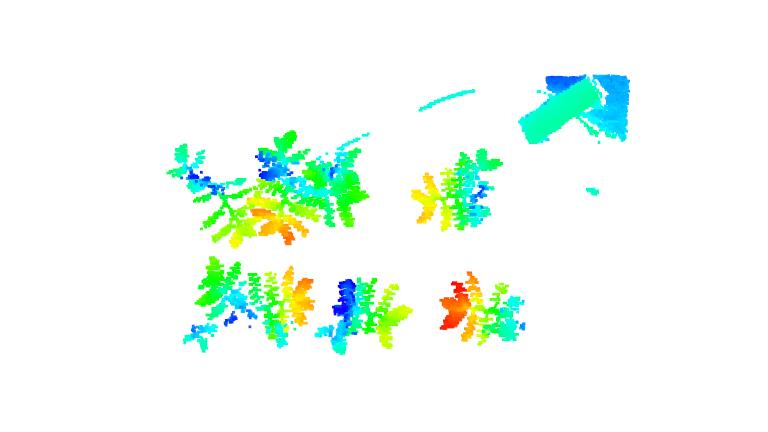chickpea: (173, 139, 263, 249), (407, 137, 504, 235), (185, 249, 259, 351), (254, 129, 317, 244), (326, 275, 414, 354), (441, 275, 526, 352), (257, 261, 321, 355), (307, 144, 374, 232)
